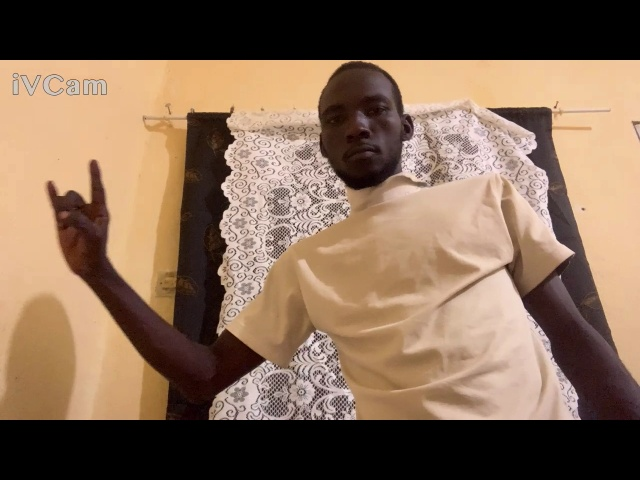je t'aime: (33, 154, 135, 284)
